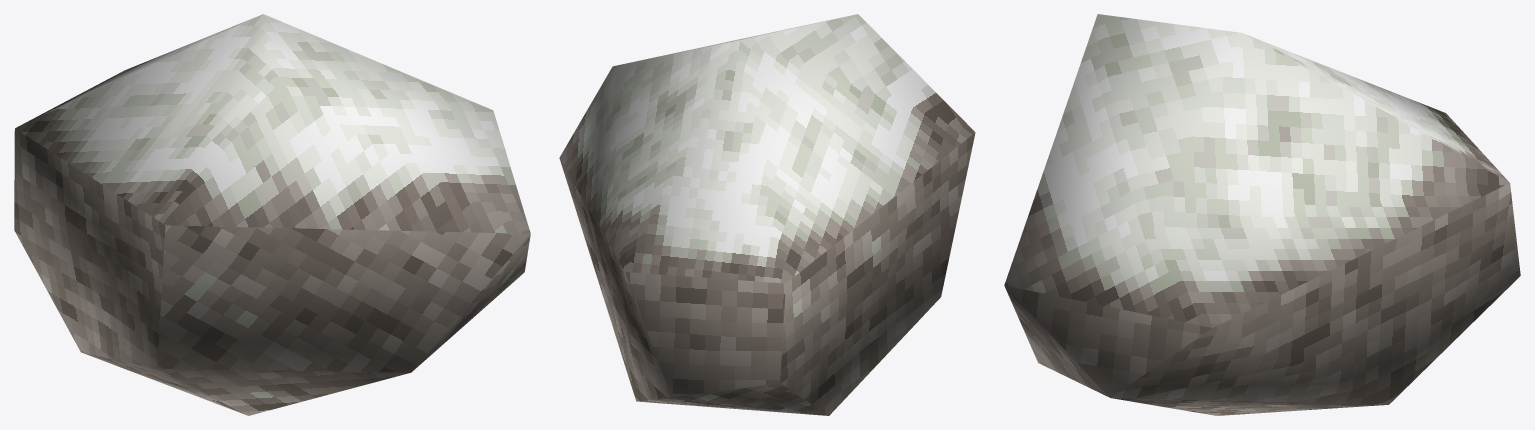
File: sbouldersno_0.dae
The picture shows the model from 3 angles, left to right: view 1: azimuth 30°, elevation 25°; view 2: azimuth 150°, elevation 25°; view 3: azimuth 270°, elevation 25°; orthographic projection. The views are drawn at different scales.
Parts seen in each view (by area): view 1: sbouldersno_0; view 2: sbouldersno_0; view 3: sbouldersno_0.
Part boxes in pixels (box(x1,y1,x2,y2)): sbouldersno_0: box(14, 14, 530, 415); sbouldersno_0: box(559, 14, 975, 415); sbouldersno_0: box(1004, 14, 1520, 415).
Size of the model in its own units: 0.8447 by 0.9629 by 0.8159.
Materials: 1 (1 with a texture image).
